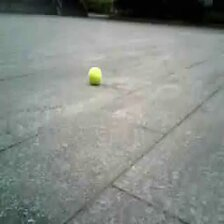tennis: (88, 67, 102, 84)
